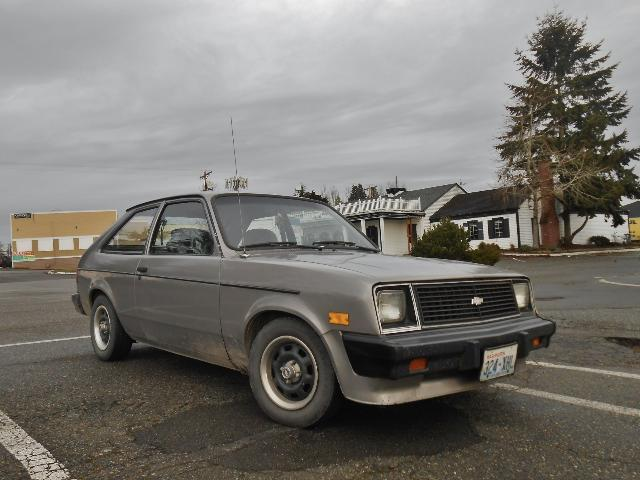chevette-1983: (72, 192, 555, 426)
